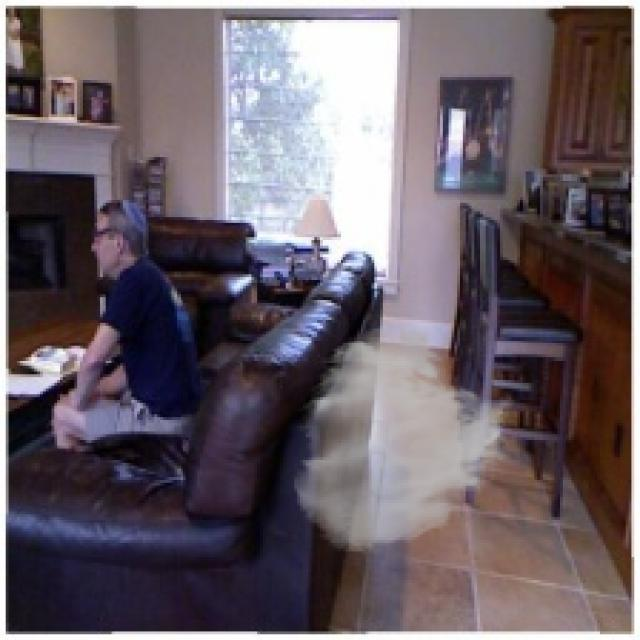Smoke: (292, 323, 517, 554)
